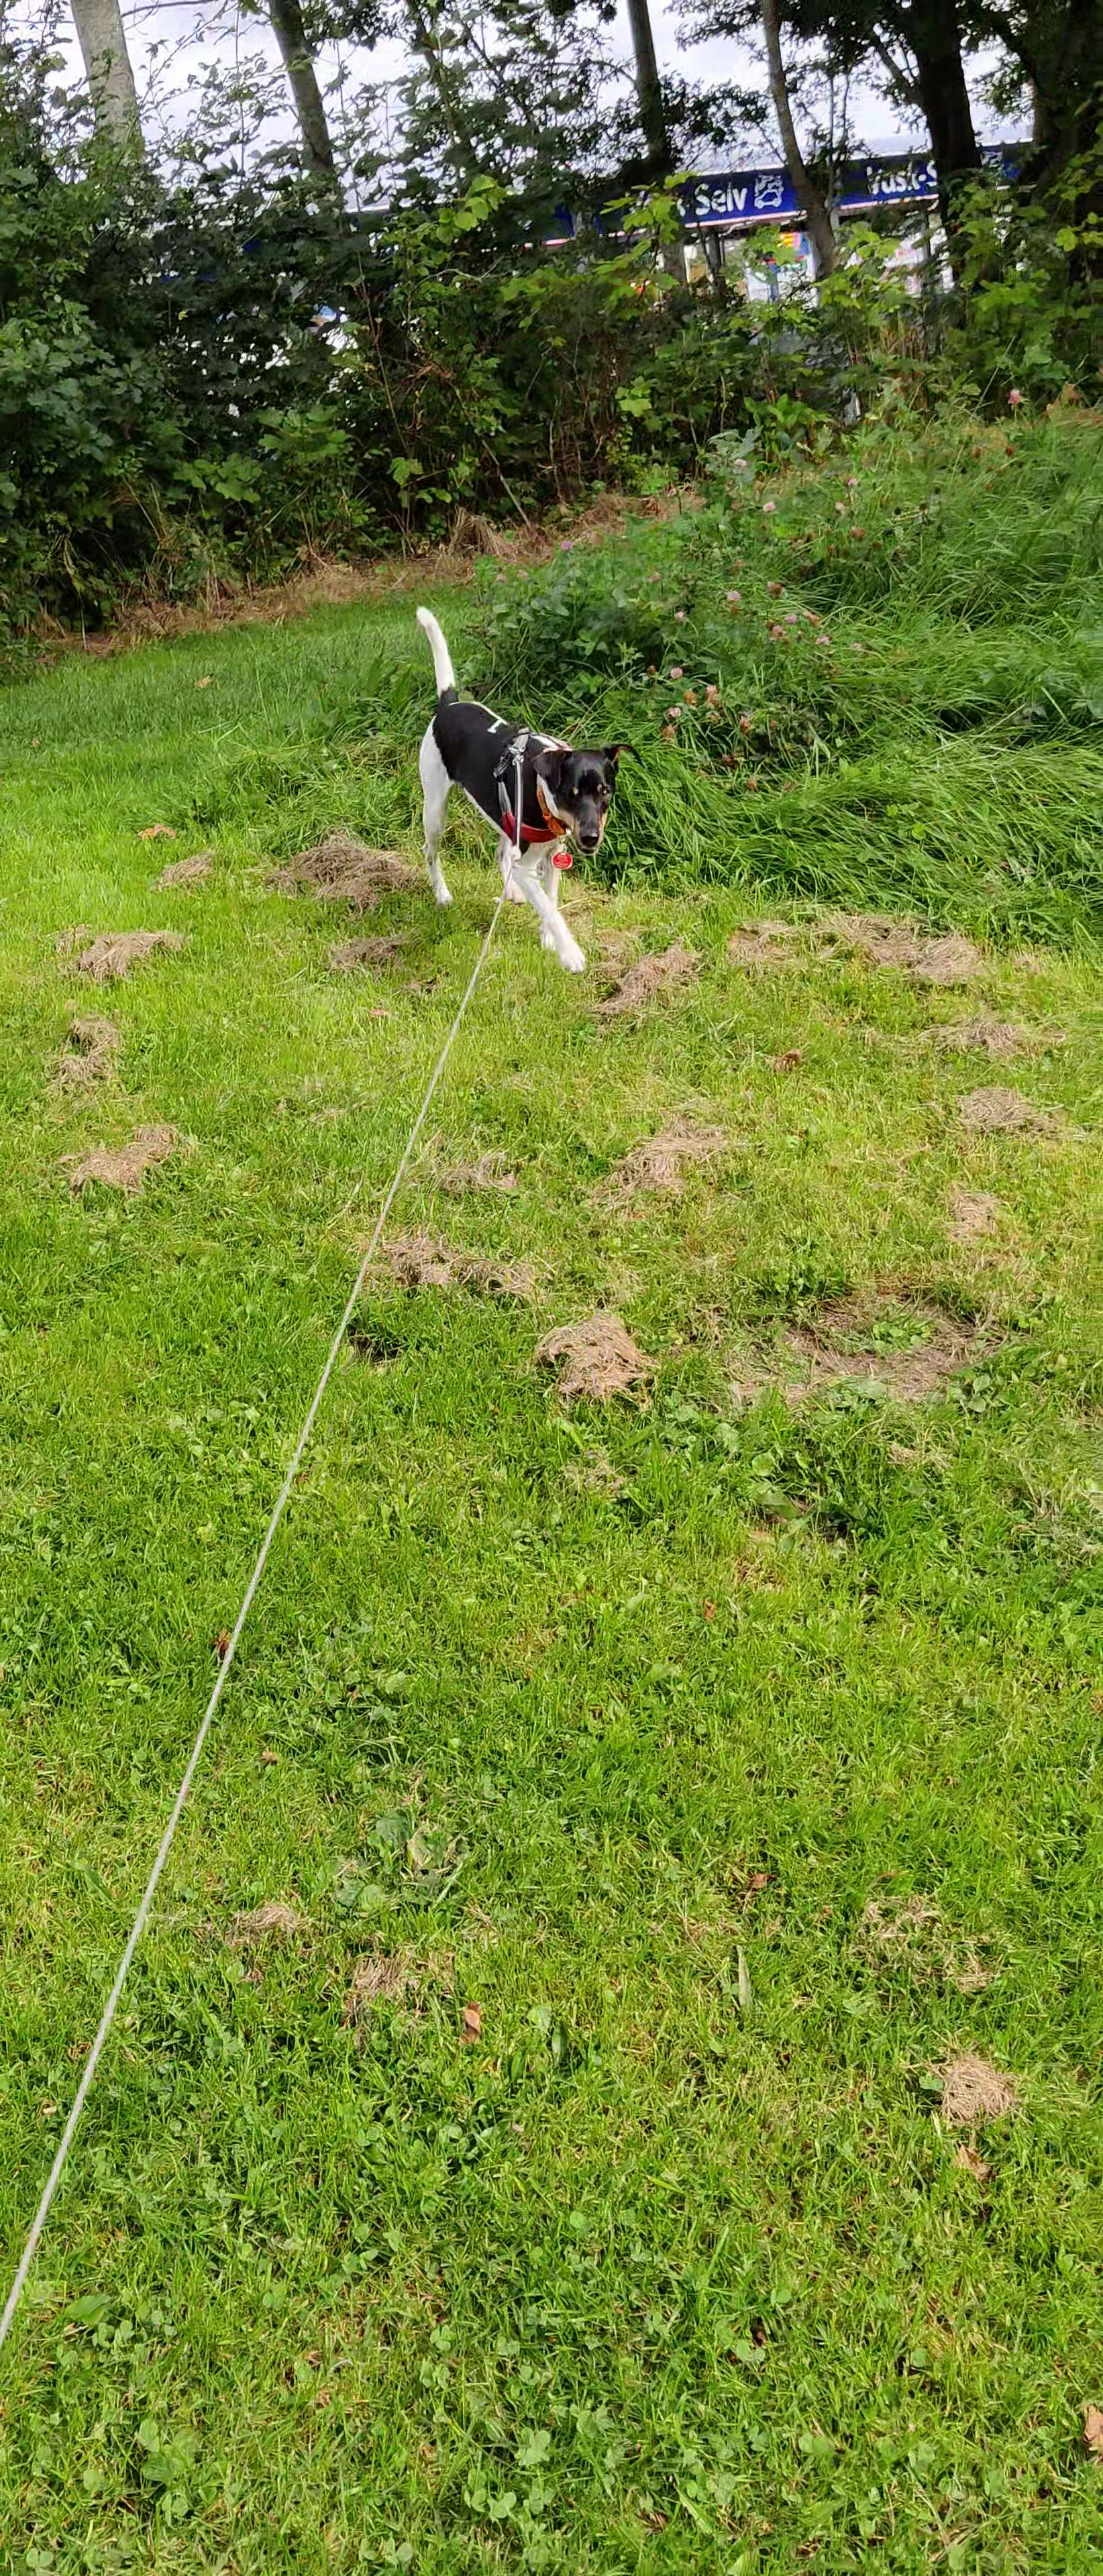Dog: (390, 593, 636, 989)
